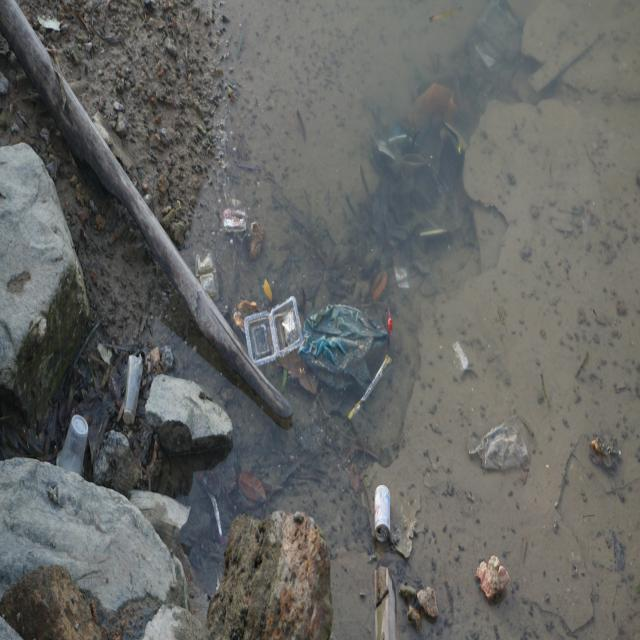Bungkus Makanan: (245, 294, 305, 370), (193, 241, 227, 306)
Bungkus Minuman: (53, 415, 97, 481), (118, 352, 153, 428)
Kantong Plastik: (299, 293, 393, 390)
